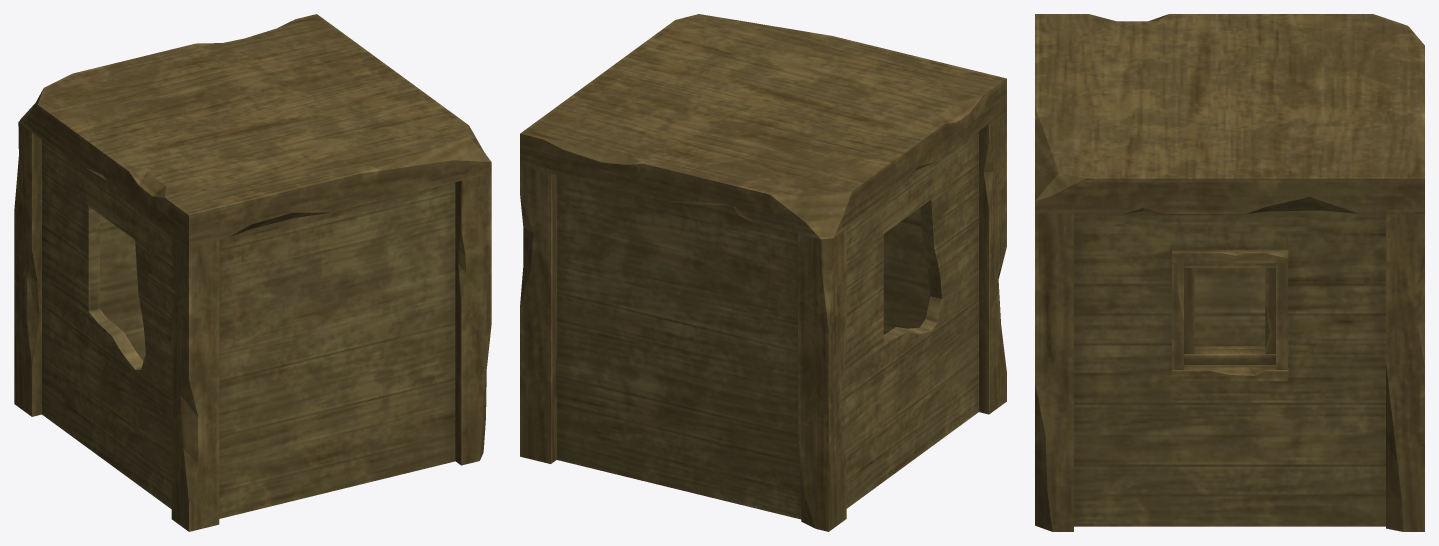
File: sb_obj_outdoor029_house03_wall01_ruins.fbx
3 views of the same model, side by side, from view 1: azimuth 30°, elevation 25°; view 2: azimuth 150°, elevation 25°; view 3: azimuth 270°, elevation 25° (orthographic). The views are drawn at different scales.
Visible parts, largest first — view 1: sb_obj_outdoor029_house03_wall01_ruins; view 2: sb_obj_outdoor029_house03_wall01_ruins; view 3: sb_obj_outdoor029_house03_wall01_ruins.
Part boxes in pixels (<box>): sb_obj_outdoor029_house03_wall01_ruins: <box>14,14,491,531</box>; sb_obj_outdoor029_house03_wall01_ruins: <box>520,14,1006,531</box>; sb_obj_outdoor029_house03_wall01_ruins: <box>1035,14,1424,531</box>.
Size of the model in its own units: 3 by 3 by 3.
